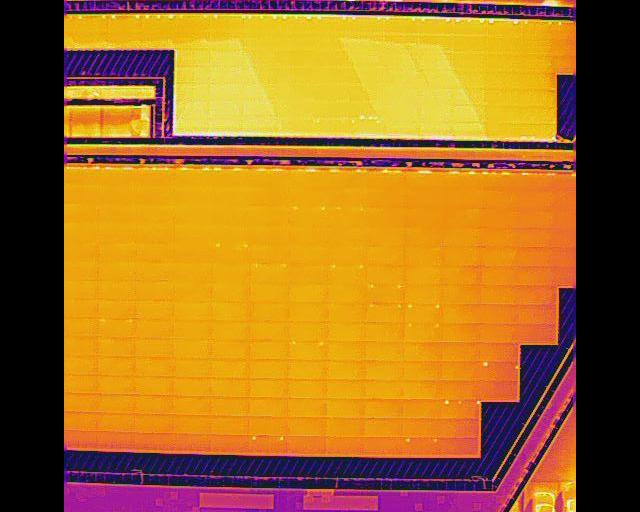Cell-Multi: (96, 316, 137, 337), (212, 242, 251, 263), (287, 339, 327, 359), (327, 262, 365, 283), (251, 262, 289, 283), (480, 359, 519, 379), (366, 282, 405, 302), (365, 302, 405, 321), (287, 204, 327, 223), (403, 302, 442, 321), (440, 399, 479, 418), (404, 322, 442, 341), (248, 434, 286, 453), (402, 436, 441, 454)
No-Anomaly: (96, 354, 137, 375), (288, 241, 329, 262), (212, 222, 252, 243), (132, 393, 173, 413), (365, 263, 406, 283), (364, 207, 405, 227), (95, 411, 134, 432), (136, 240, 175, 261), (365, 320, 404, 341), (444, 207, 483, 228), (288, 262, 327, 283), (482, 189, 519, 211), (95, 374, 135, 394), (134, 337, 174, 357), (135, 279, 175, 299), (478, 379, 518, 399), (364, 398, 404, 418), (441, 283, 481, 303), (250, 318, 290, 338), (287, 377, 327, 397), (481, 321, 519, 342), (519, 190, 557, 211), (136, 298, 174, 319), (405, 206, 443, 227), (483, 208, 519, 230), (327, 320, 366, 340), (172, 394, 211, 414), (326, 378, 365, 398), (173, 337, 212, 357), (97, 297, 136, 317), (97, 278, 136, 298), (134, 413, 173, 433), (98, 240, 137, 260), (98, 221, 137, 241), (327, 339, 366, 359), (404, 379, 443, 399), (441, 341, 480, 361), (442, 321, 481, 341), (481, 283, 520, 303), (482, 245, 521, 265), (173, 184, 212, 204), (211, 338, 250, 358), (249, 396, 288, 416), (250, 300, 289, 320), (288, 320, 327, 340), (365, 244, 406, 263), (402, 360, 443, 379), (210, 282, 251, 301), (175, 241, 212, 262), (251, 241, 288, 262), (98, 336, 136, 356), (173, 222, 211, 242), (135, 261, 175, 280), (136, 221, 174, 241), (98, 202, 136, 222), (135, 356, 173, 376), (134, 318, 174, 337), (366, 226, 404, 246), (365, 359, 403, 379), (403, 398, 441, 418), (403, 417, 441, 437), (442, 360, 480, 380), (442, 245, 482, 264), (441, 303, 481, 322), (210, 300, 250, 319), (174, 280, 212, 300), (211, 396, 249, 416), (212, 205, 252, 224), (249, 377, 287, 397), (287, 416, 327, 435), (288, 224, 328, 243), (327, 302, 366, 321), (327, 283, 366, 302), (173, 357, 212, 376), (97, 183, 136, 202), (135, 376, 174, 395), (365, 379, 404, 398), (481, 303, 520, 322), (481, 265, 520, 284), (211, 358, 250, 377), (211, 319, 250, 338), (212, 263, 251, 282), (249, 339, 288, 358), (287, 397, 326, 416), (174, 299, 211, 319), (173, 413, 210, 433), (519, 283, 556, 303), (483, 227, 520, 247), (212, 187, 253, 205), (172, 433, 210, 452), (327, 416, 365, 435), (173, 318, 211, 337), (173, 376, 211, 395), (326, 397, 364, 416), (95, 394, 133, 413), (96, 431, 134, 450), (99, 260, 137, 279), (136, 183, 174, 202), (365, 417, 403, 436), (405, 227, 443, 246), (404, 283, 442, 302), (404, 341, 442, 360), (440, 418, 478, 437), (442, 380, 480, 399), (211, 376, 249, 395), (210, 415, 248, 434), (210, 433, 248, 452), (249, 415, 287, 434), (249, 358, 287, 377), (442, 265, 482, 283), (520, 321, 556, 341), (287, 359, 327, 377), (288, 170, 328, 188), (136, 203, 173, 222), (328, 244, 365, 263), (407, 245, 444, 264), (175, 262, 212, 281), (289, 301, 326, 320), (172, 204, 211, 222), (325, 436, 364, 454), (133, 432, 172, 450), (364, 172, 403, 190), (444, 190, 483, 208), (288, 187, 327, 205), (212, 170, 251, 188), (250, 283, 289, 301), (64, 316, 97, 337), (327, 359, 365, 377), (521, 246, 557, 265), (405, 190, 443, 208), (443, 173, 481, 191), (520, 173, 556, 192), (520, 265, 556, 284), (288, 283, 326, 301), (251, 222, 287, 241), (328, 206, 362, 226), (364, 190, 404, 207), (64, 259, 98, 279), (287, 435, 327, 452), (520, 228, 557, 246), (366, 341, 403, 359), (404, 265, 441, 283), (483, 174, 518, 193), (252, 186, 287, 205), (519, 210, 558, 227), (480, 343, 519, 360), (444, 228, 483, 245), (363, 436, 402, 453), (64, 297, 97, 317), (519, 304, 555, 322), (405, 173, 443, 190), (440, 437, 478, 454), (64, 221, 98, 240), (252, 204, 286, 223), (64, 374, 97, 393), (64, 279, 97, 298), (64, 183, 97, 202), (329, 188, 363, 206), (328, 171, 362, 189), (329, 226, 365, 243), (64, 203, 98, 221), (64, 241, 98, 259), (98, 168, 136, 184), (64, 355, 96, 374), (64, 411, 96, 430), (64, 337, 97, 355), (174, 169, 213, 184), (64, 393, 96, 411), (64, 430, 96, 448), (252, 170, 288, 186), (64, 167, 97, 184), (137, 169, 172, 183)
